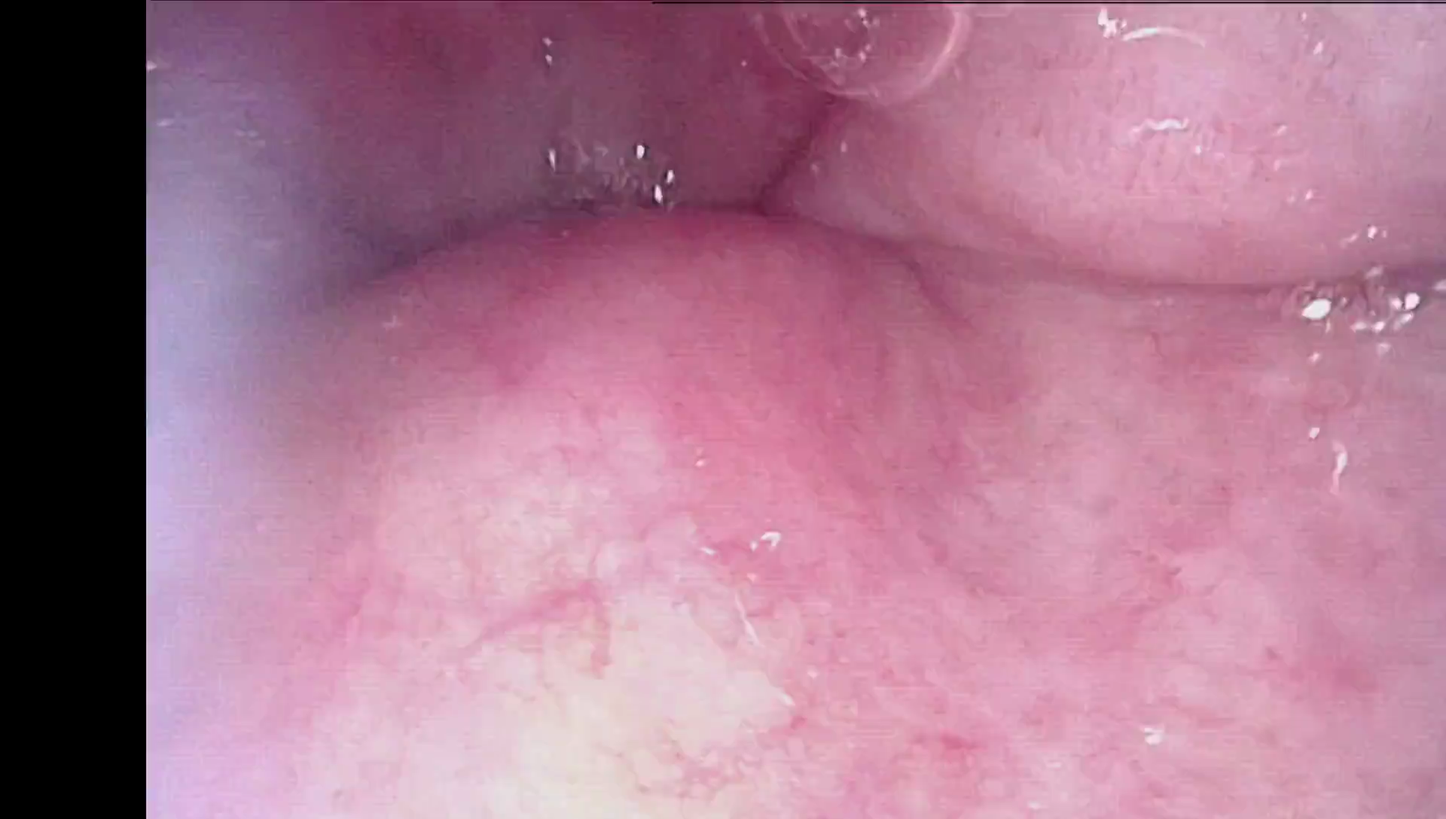close_wall: (219, 398, 1096, 819)
